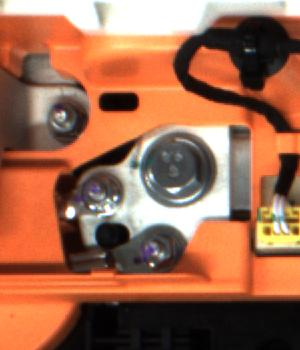nut_b: (144, 124, 217, 211)
